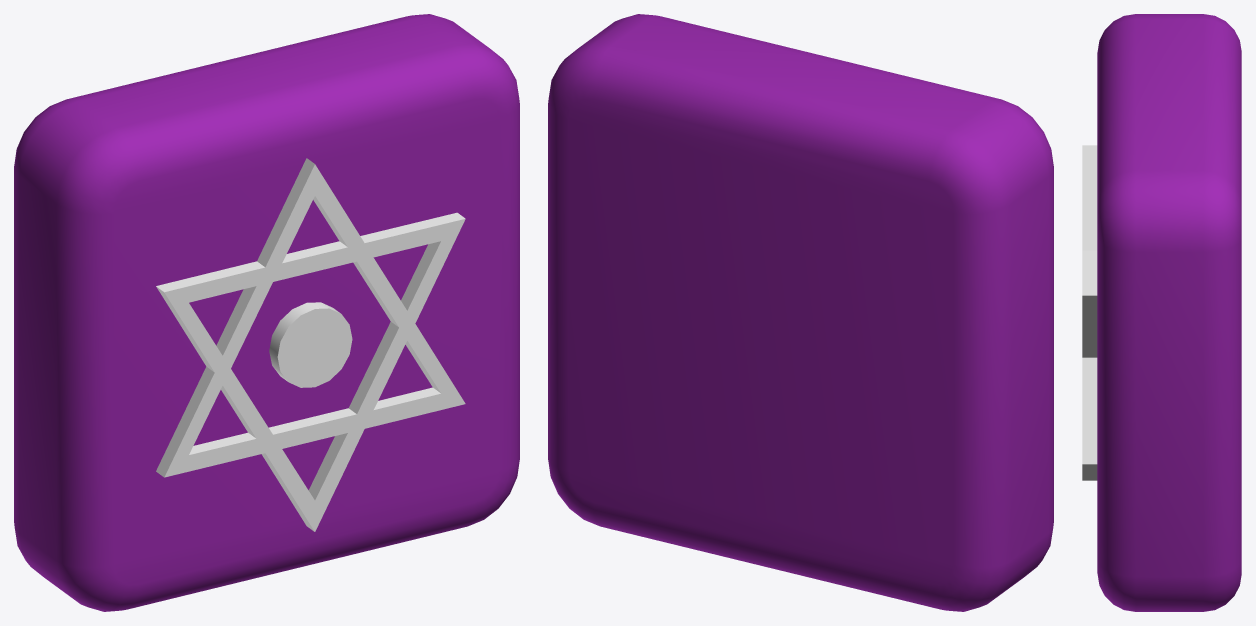
The model's file is dotted_six_pointed_star.glb.
3 renders of one model, left to right at view 1: azimuth 30°, elevation 25°; view 2: azimuth 150°, elevation 25°; view 3: azimuth 270°, elevation 25°, orthographic. The views are drawn at different scales.
Visible parts, largest first — view 1: Cube.6397; view 2: Cube.6397; view 3: Cube.6397.
Boxes of the visible parts, <box> form: Cube.6397: <box>14,14,519,611</box>; Cube.6397: <box>548,14,1053,611</box>; Cube.6397: <box>1082,14,1241,611</box>.
Bounding box in the file's own units: 2.2 × 2.2 × 0.73.
Materials: 1 (1 with a texture image).
